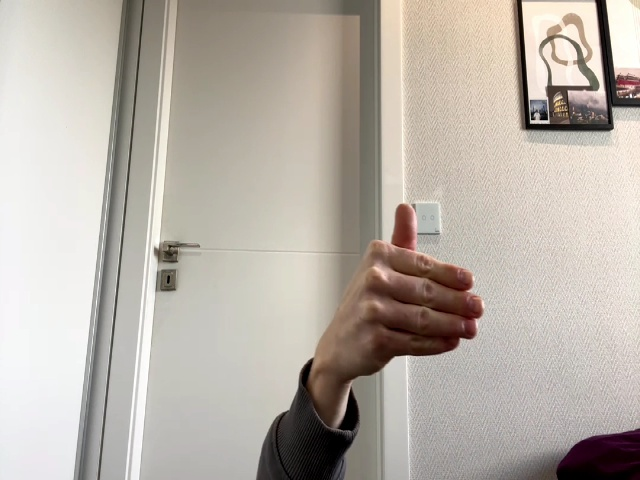M: (341, 205, 484, 384)
